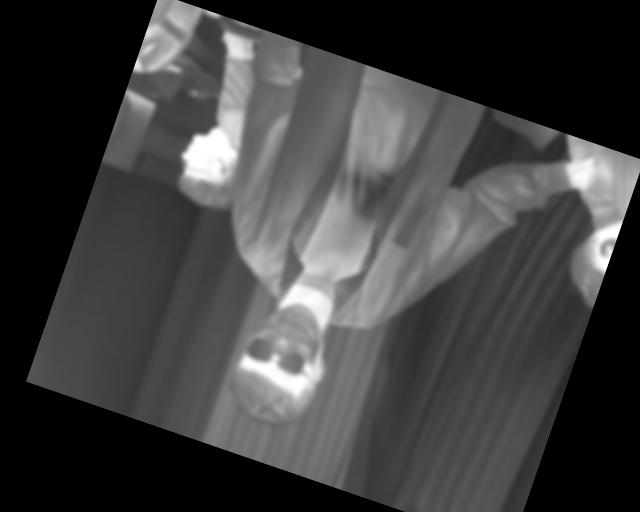face: (215, 287, 344, 439)
